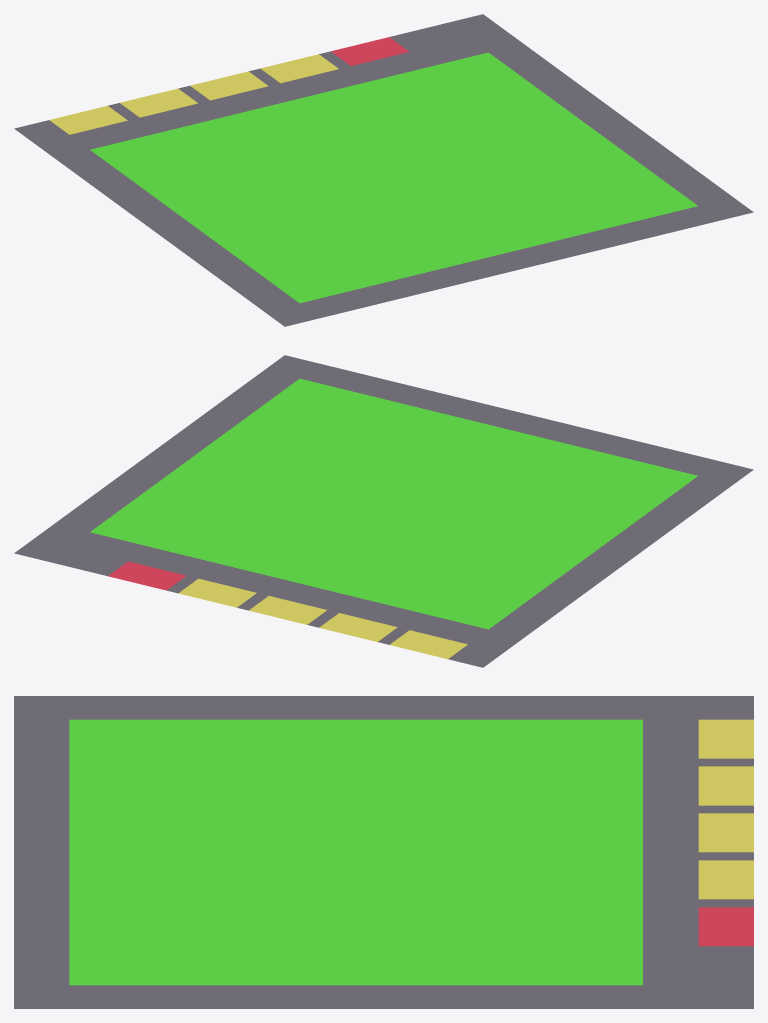
File: Tester2.glb
3 renders of one model, top to bottom at view 1: azimuth 30°, elevation 25°; view 2: azimuth 150°, elevation 25°; view 3: azimuth 270°, elevation 25°, orthographic. The views are drawn at different scales.
Visible parts, largest first — view 1: Plane; view 2: Plane; view 3: Plane.
Boxes of the visible parts, x1,y1,x2,y2 form: Plane: [14, 14, 753, 326]; Plane: [14, 355, 753, 667]; Plane: [14, 696, 753, 1008].
Size of the model in its own units: 40 by 0 by 40.
